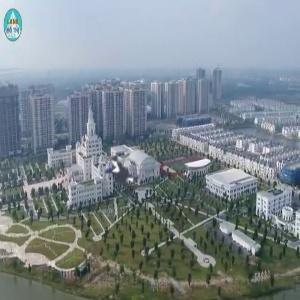drone: (79, 133, 167, 221)
